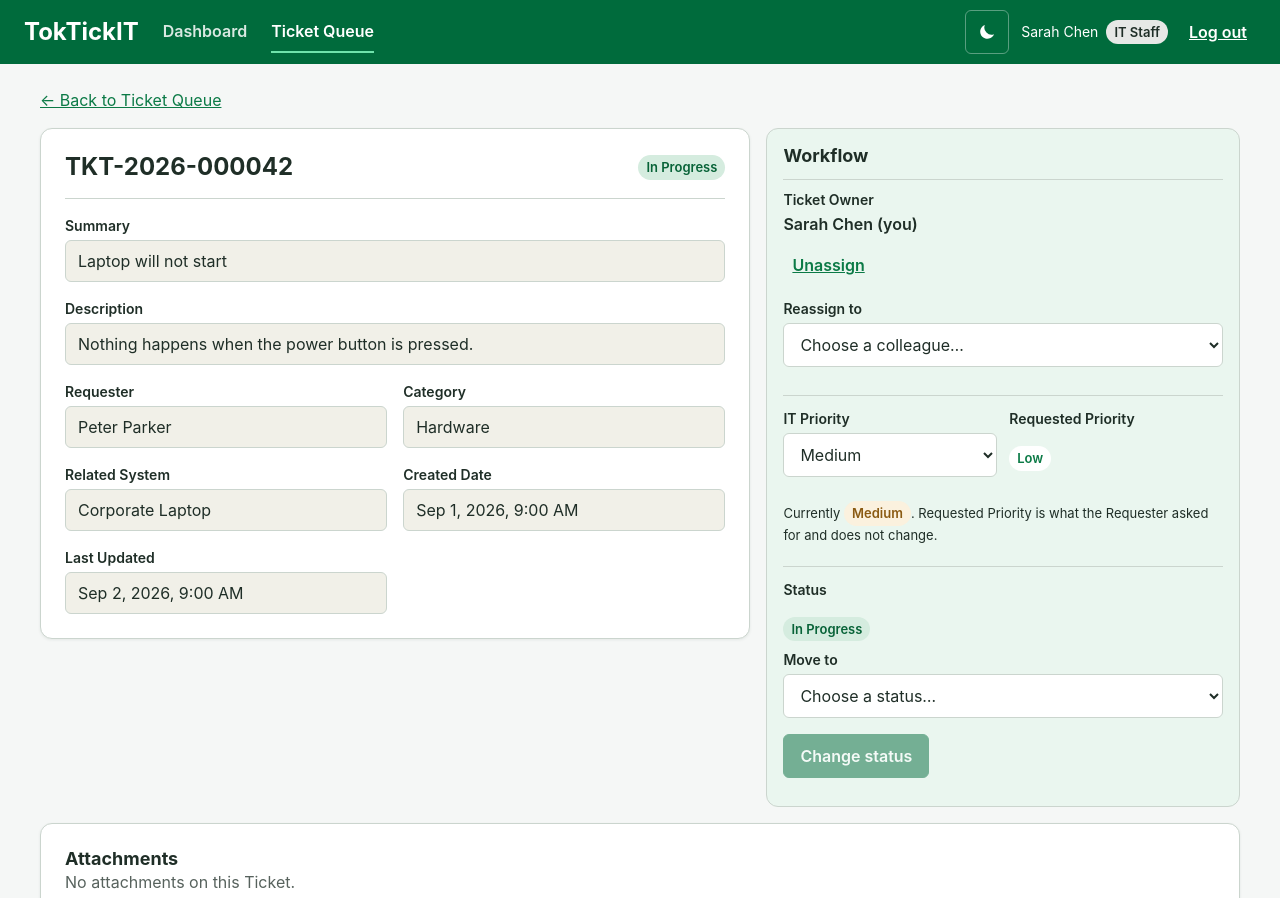
Test case: UI-14 ownership (AC-27, AC-28) › unassigns with a null owner
expect the heading "TKT-2026-000042" is shown: met, box [65,153,293,182]
Click the button "Unassign": (829, 265) [783,244,874,286]
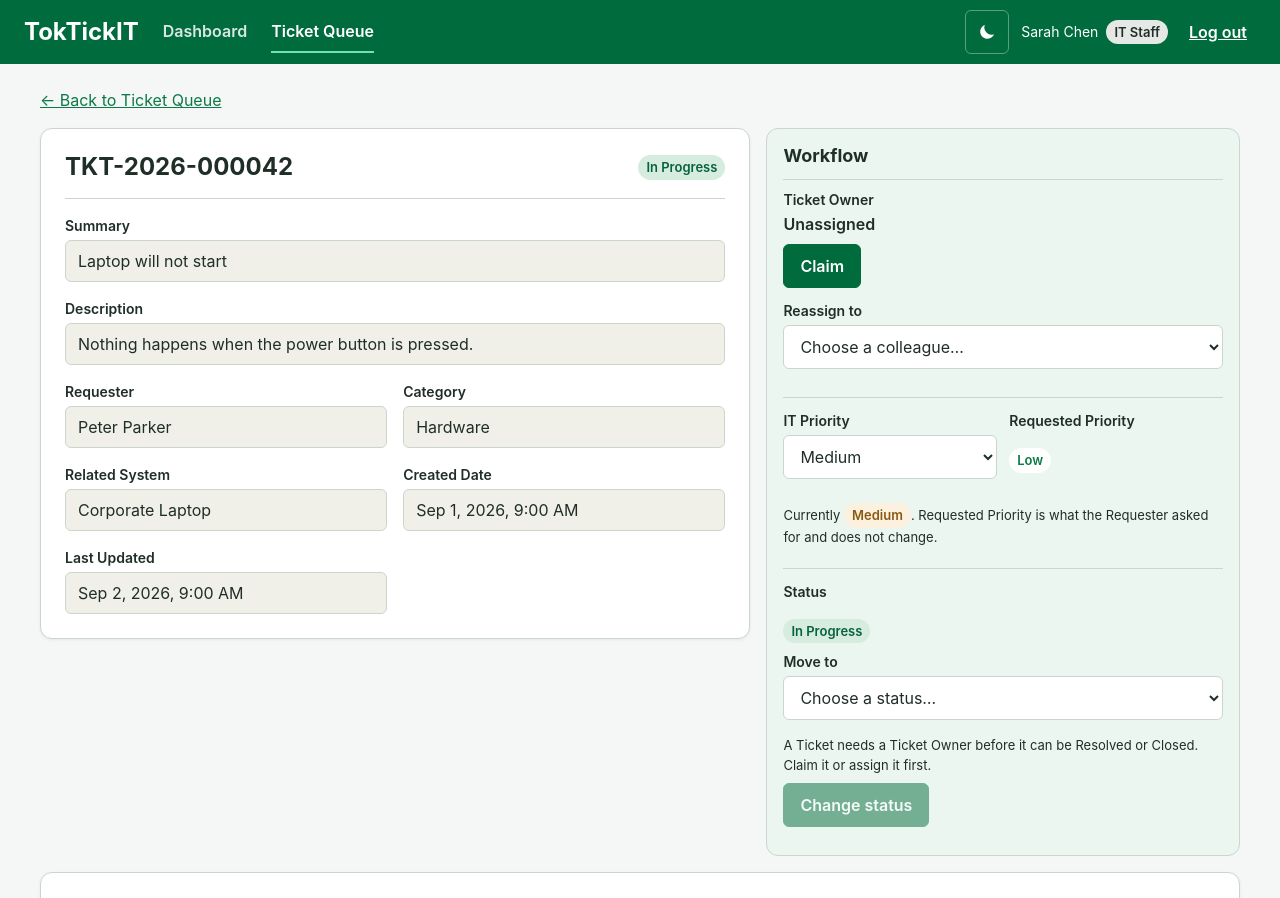
expect the text with test id "owner-current" reads "Unassigned": met, box [783,214,875,234]
